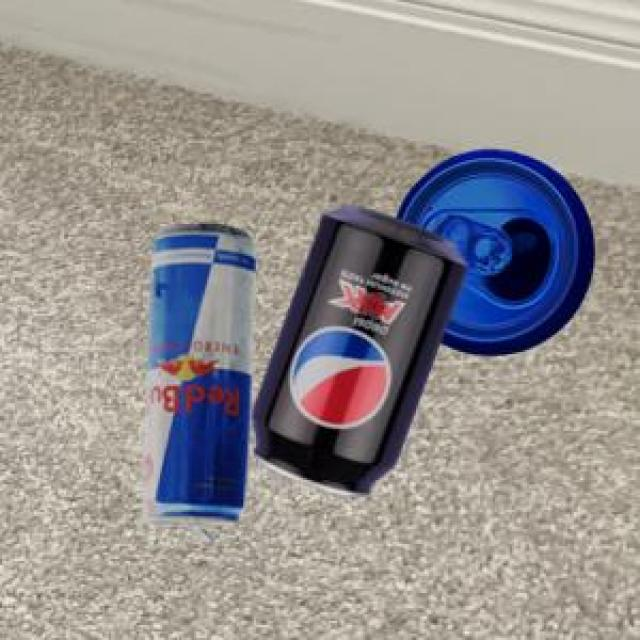logam: (249, 204, 464, 494), (394, 146, 592, 353), (140, 221, 253, 543)
